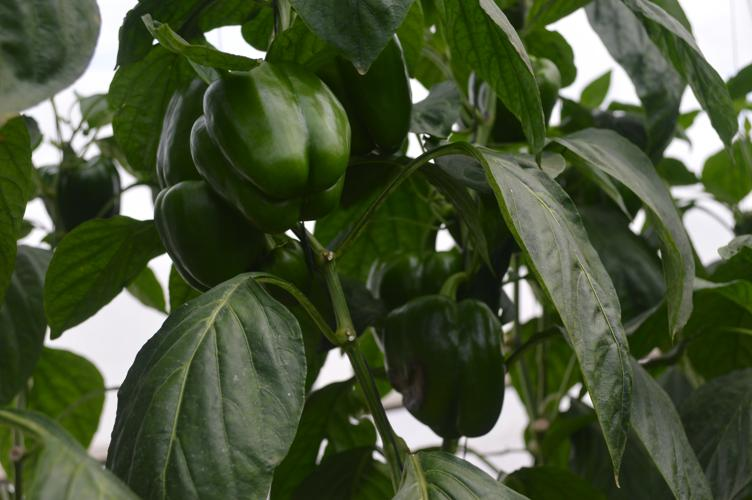BellPepper: (185, 63, 348, 223), (383, 301, 504, 436), (149, 182, 265, 293), (320, 33, 413, 160), (363, 250, 466, 313), (154, 74, 208, 186), (45, 160, 125, 221)
